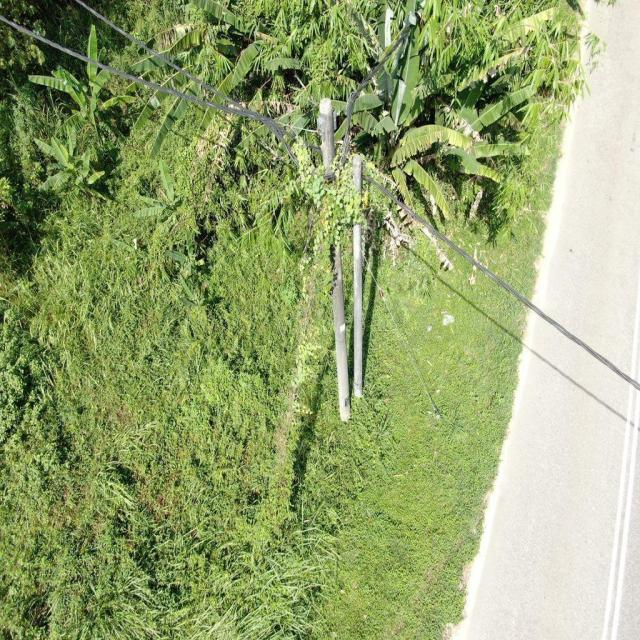light_pole: (234, 126, 378, 555)
